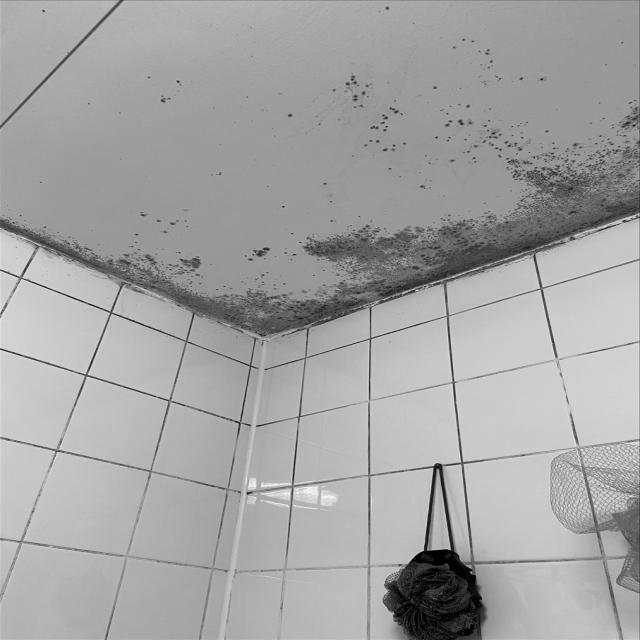stain marks: (0, 3, 640, 336)
